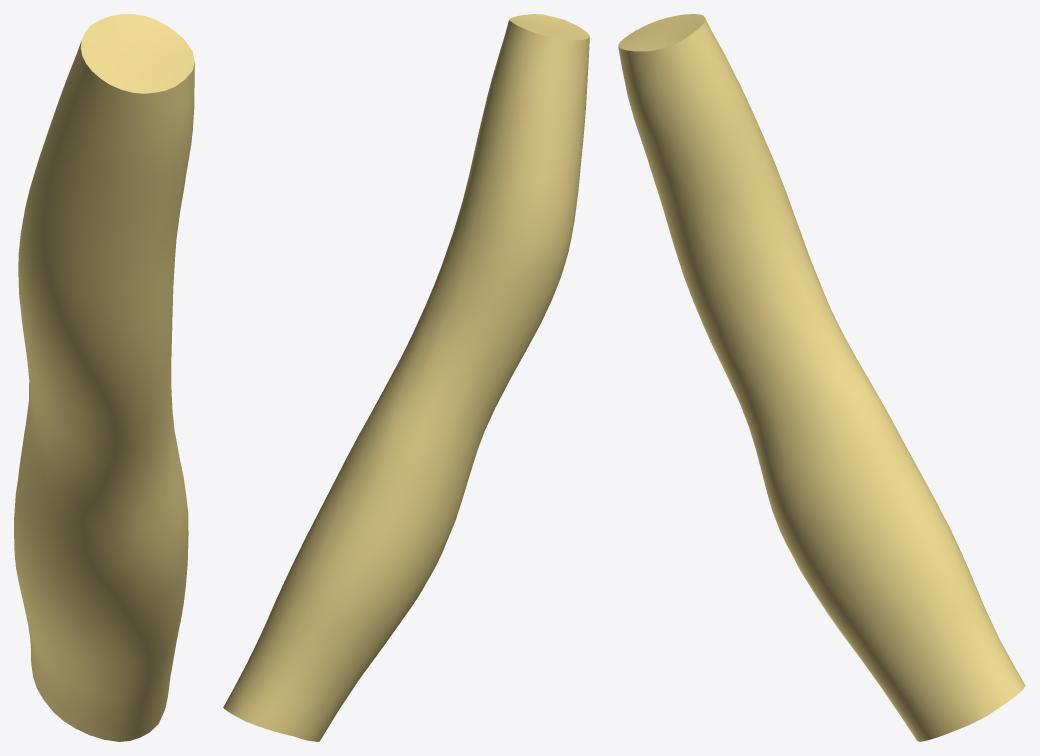
Rendered from fma235324-r_mm3534m.glb.
The picture shows the model from 3 angles, left to right: view 1: azimuth 30°, elevation 25°; view 2: azimuth 150°, elevation 25°; view 3: azimuth 270°, elevation 25°; orthographic projection. The views are drawn at different scales.
Parts seen in each view (by area): view 1: FMA235324-R_MM3534M; view 2: FMA235324-R_MM3534M; view 3: FMA235324-R_MM3534M.
Boxes of the visible parts, x1,y1,x2,y2 form: FMA235324-R_MM3534M: (14, 14, 194, 741); FMA235324-R_MM3534M: (223, 14, 589, 741); FMA235324-R_MM3534M: (618, 14, 1025, 741).
Bounding box in the file's own units: 0.00462 × 0.0135 × 0.00756.
